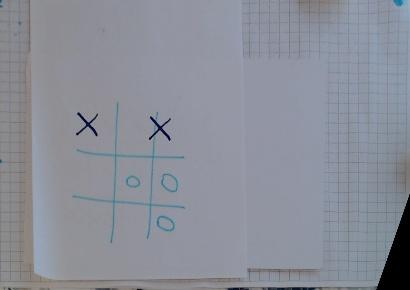O: (153, 172, 185, 195), (154, 212, 177, 237), (125, 172, 142, 190)
X: (146, 113, 176, 145), (74, 110, 102, 140)
grid: (69, 103, 195, 250)
